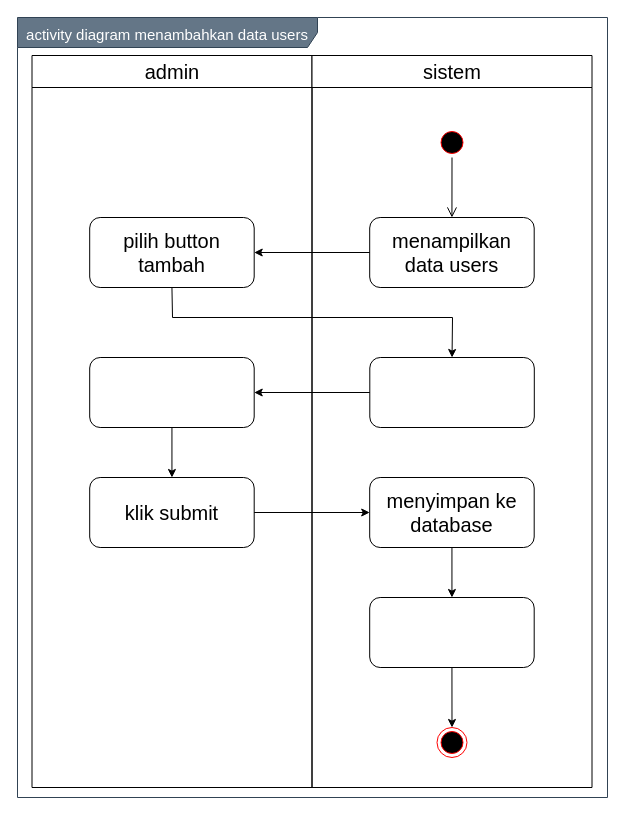
This 625x815 diagram has some shape labels left out. Each missing label, with the centre of its shape:
"menampilkan form tambah users" goes at pixel 451 392.
"menampilkan tabel data users" goes at pixel 451 632.
"mengisi form tambah users" goes at pixel 171 392.
